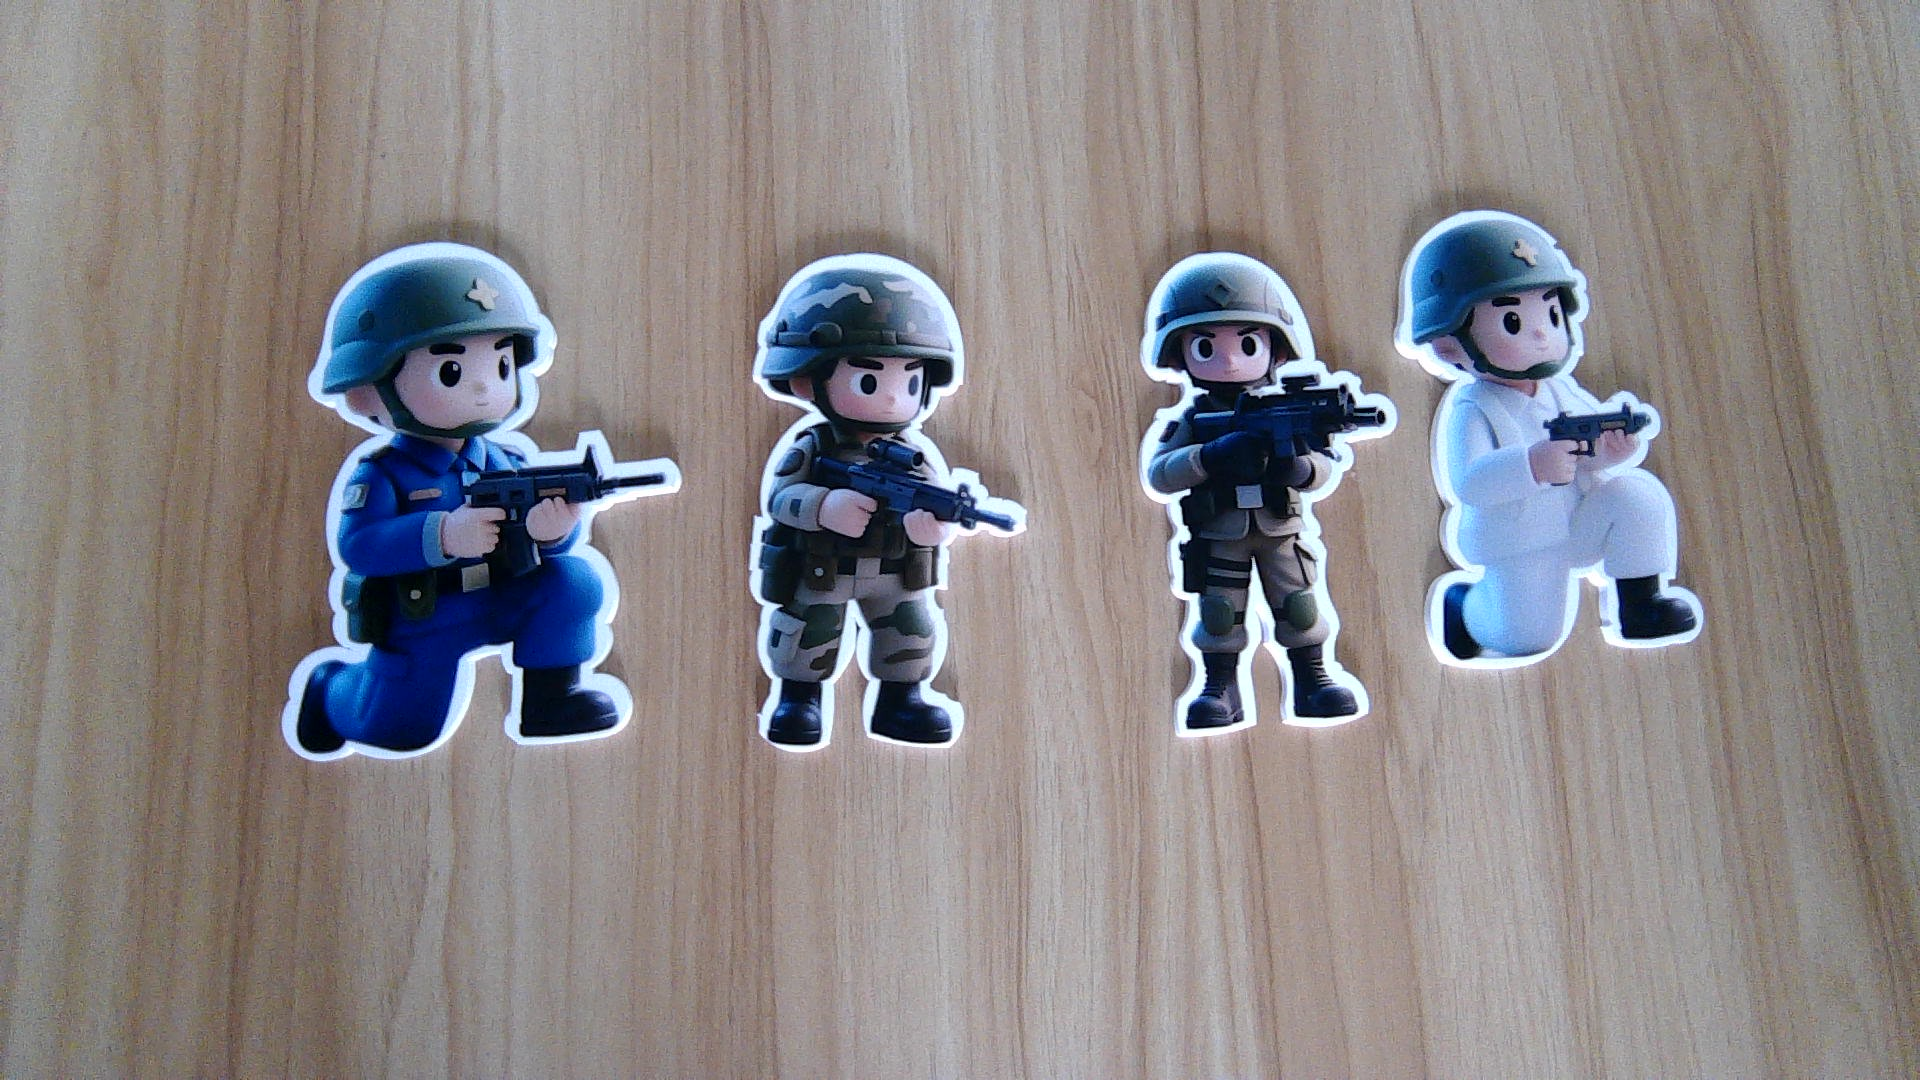人质: (1419, 381, 1708, 671)
友军: (1116, 384, 1396, 744), (737, 423, 1031, 756)
敌人2: (266, 440, 683, 762)
